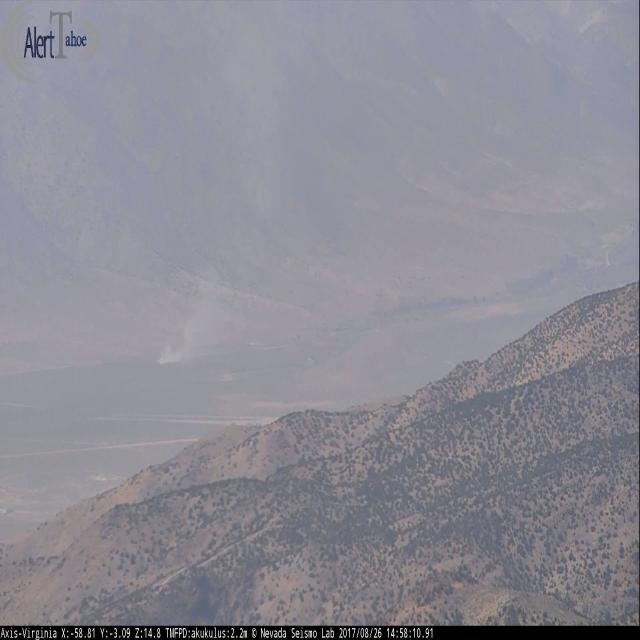smoke: (158, 290, 199, 367)
